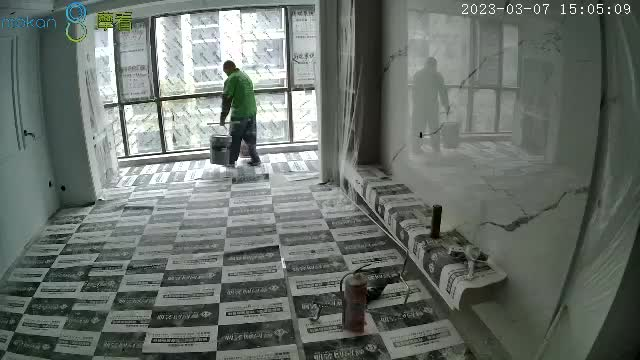people: (217, 60, 261, 168)
window: (93, 7, 316, 159)
